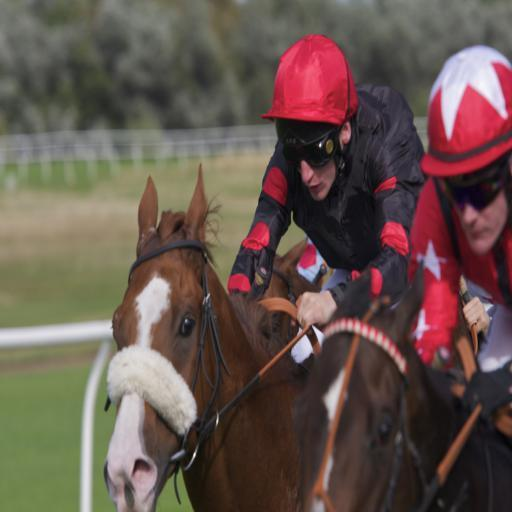horse: (102, 160, 310, 512), (292, 267, 511, 511), (259, 236, 322, 354)
